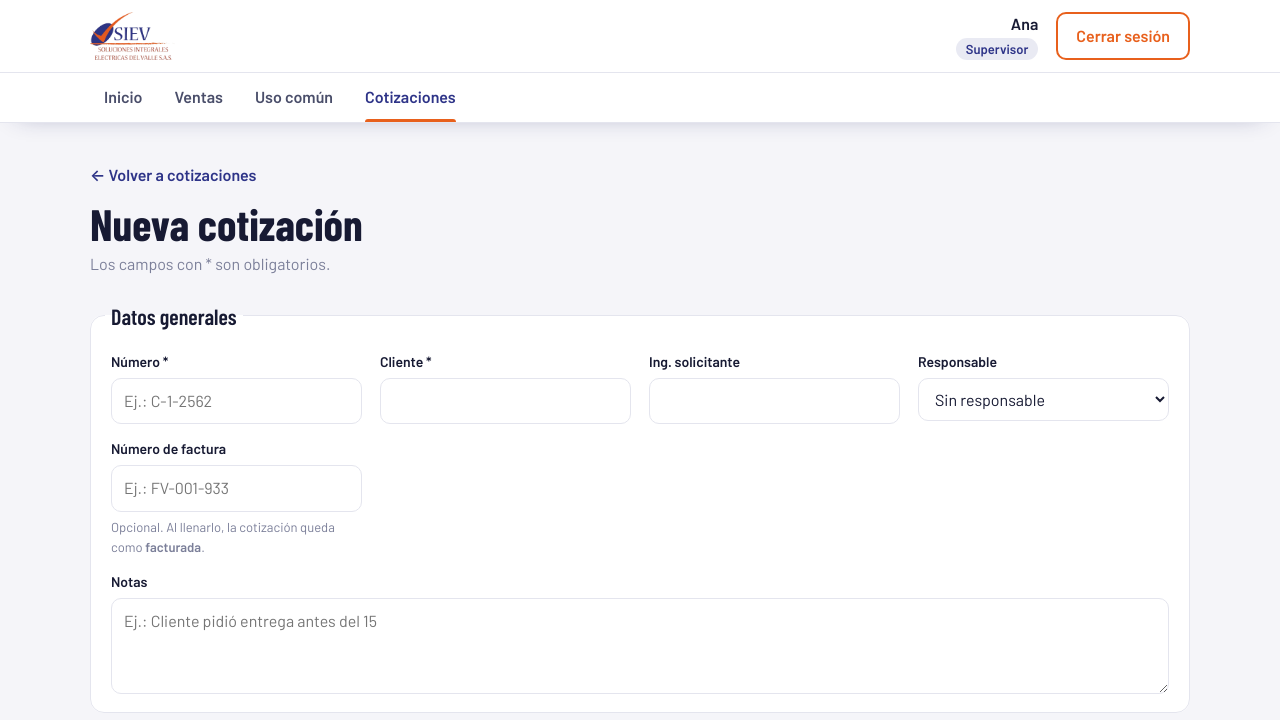
it: formulario de cotización › se puede guardar sin materiales (la fila vacía se ignora)
Expected: the heading "Nueva cotización" is shown, x1=90 y1=200 x2=363 y2=248
Type "C-10" into the field labelled "Número *" at {"x": 236, "y": 401}, box x1=111 y1=378 x2=362 y2=424
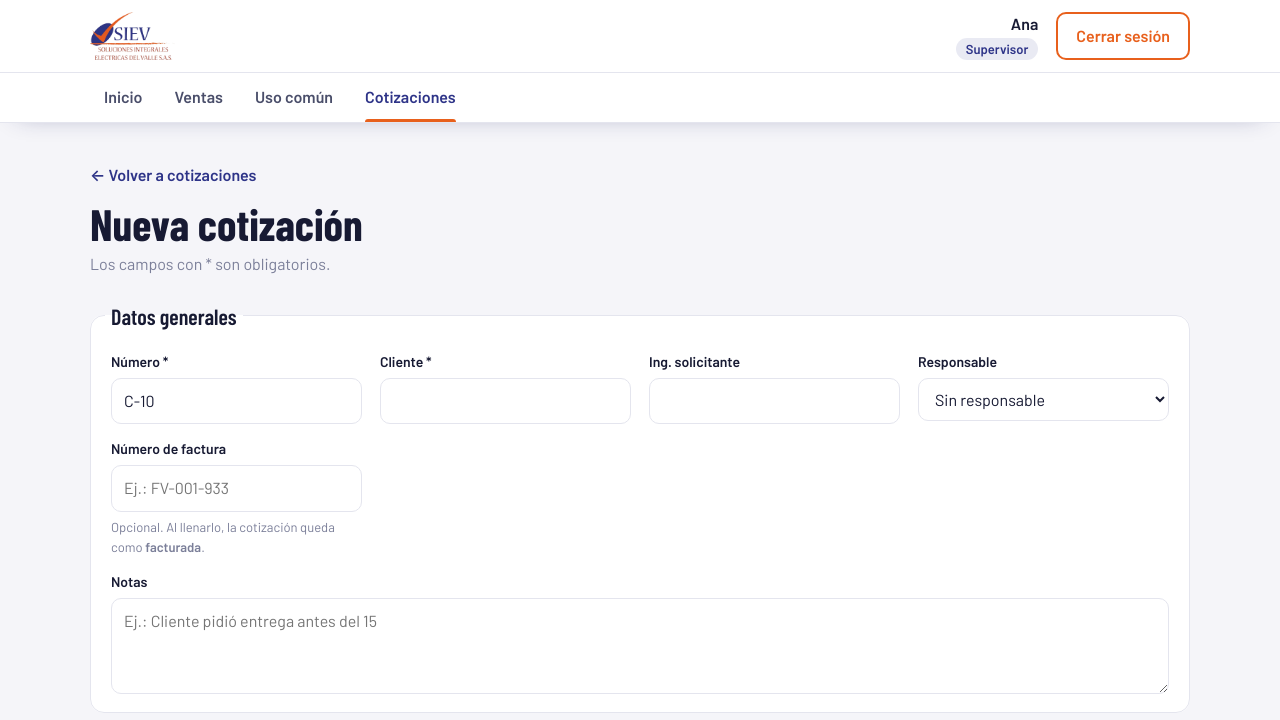
Type "Savicol" into the field labelled "Cliente *" at {"x": 506, "y": 401}, box x1=380 y1=378 x2=631 y2=424
(page scrolled)
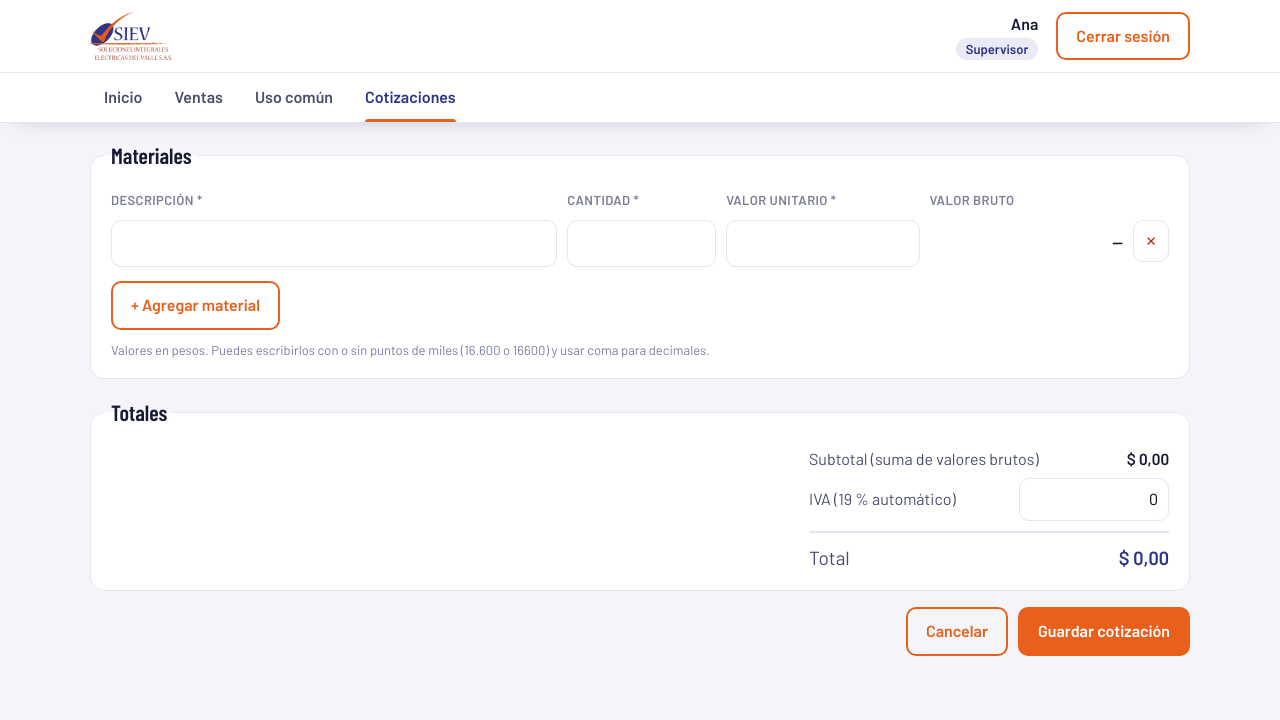
Click the button "Guardar cotización" at {"x": 1104, "y": 632}, box x1=1018 y1=607 x2=1190 y2=656
(page scrolled)
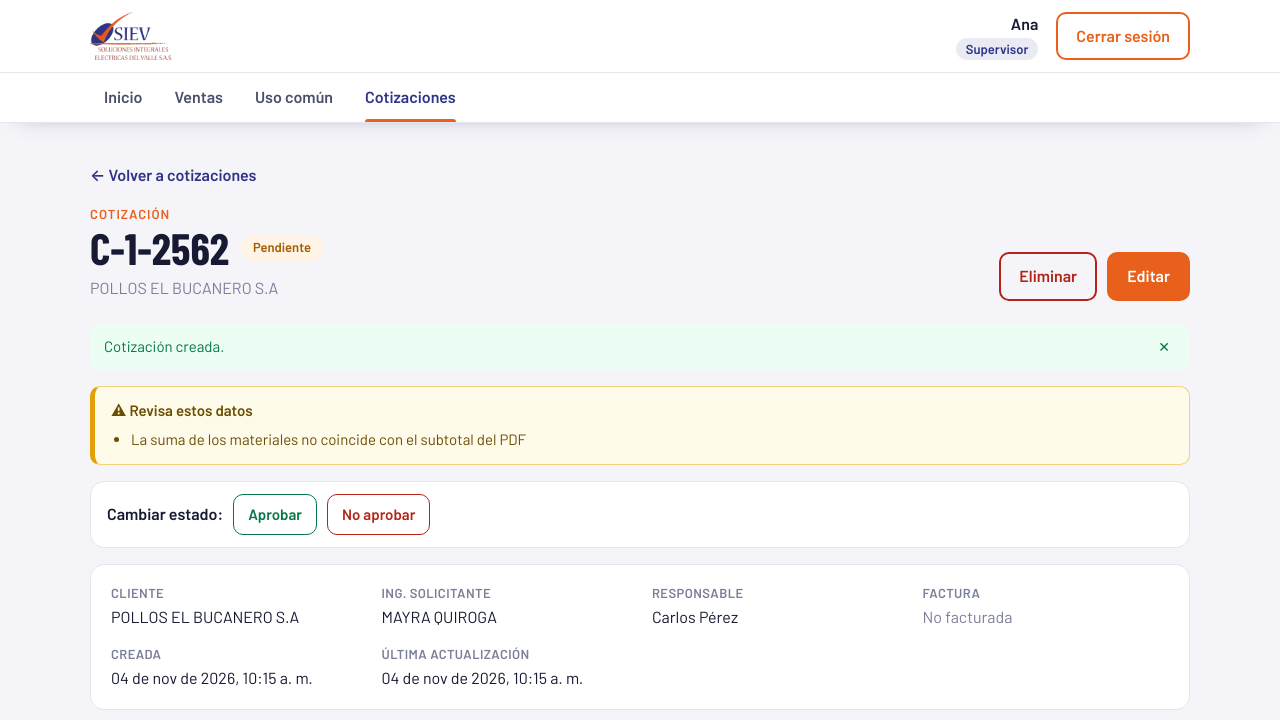
Now the text "Cotización creada." is shown, box x1=104 y1=335 x2=224 y2=358
